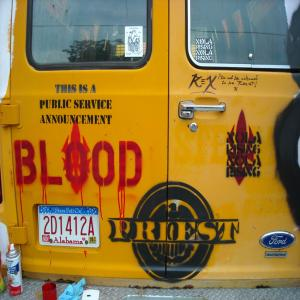Vehicle-registration-plate: (15, 187, 148, 272)
